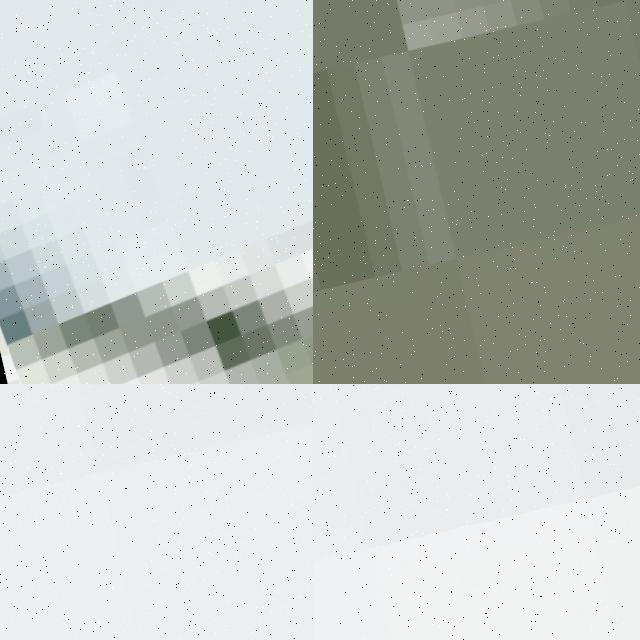drone: (0, 0, 313, 384)
